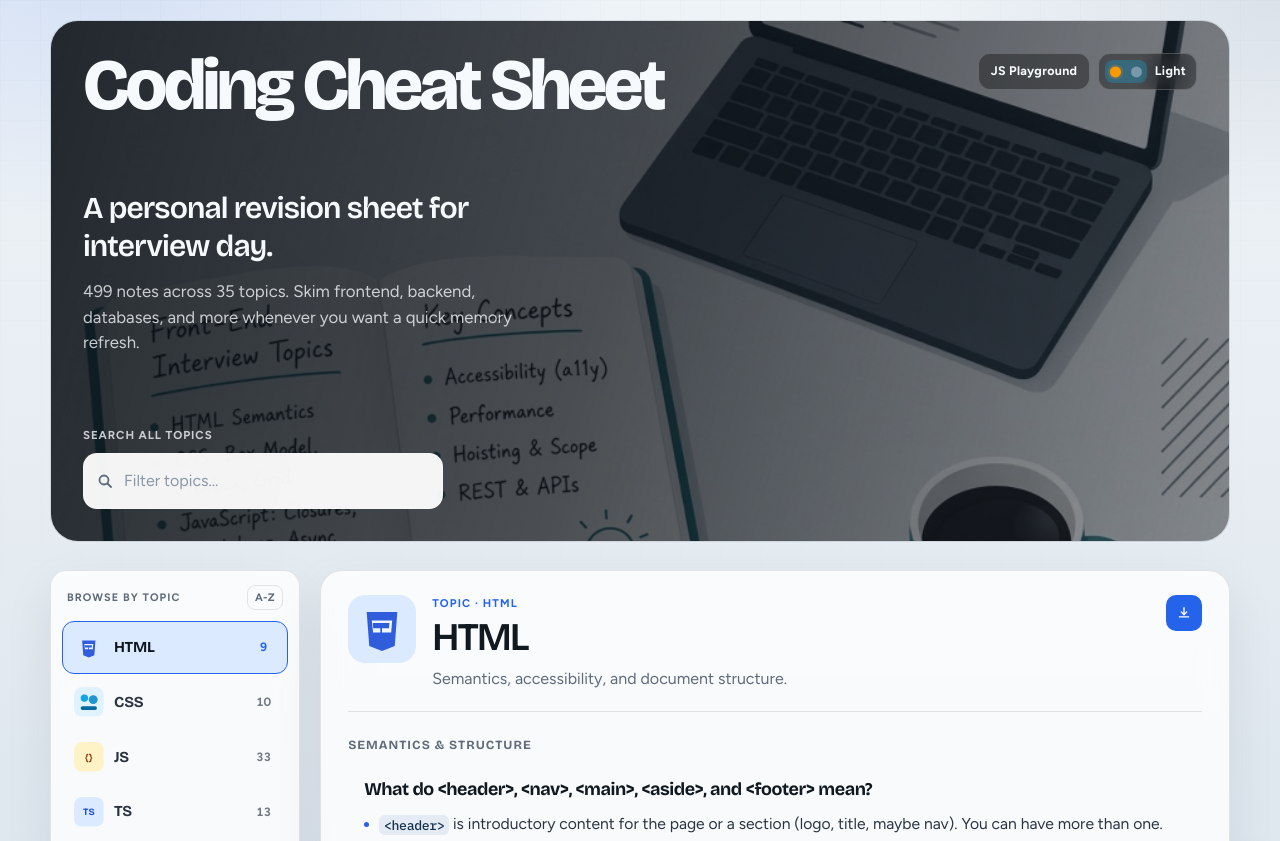
it: App › toggles between light and dark theme
Click the button with aria-label "switch to dark theme": (1148, 72) [1098,53,1197,90]
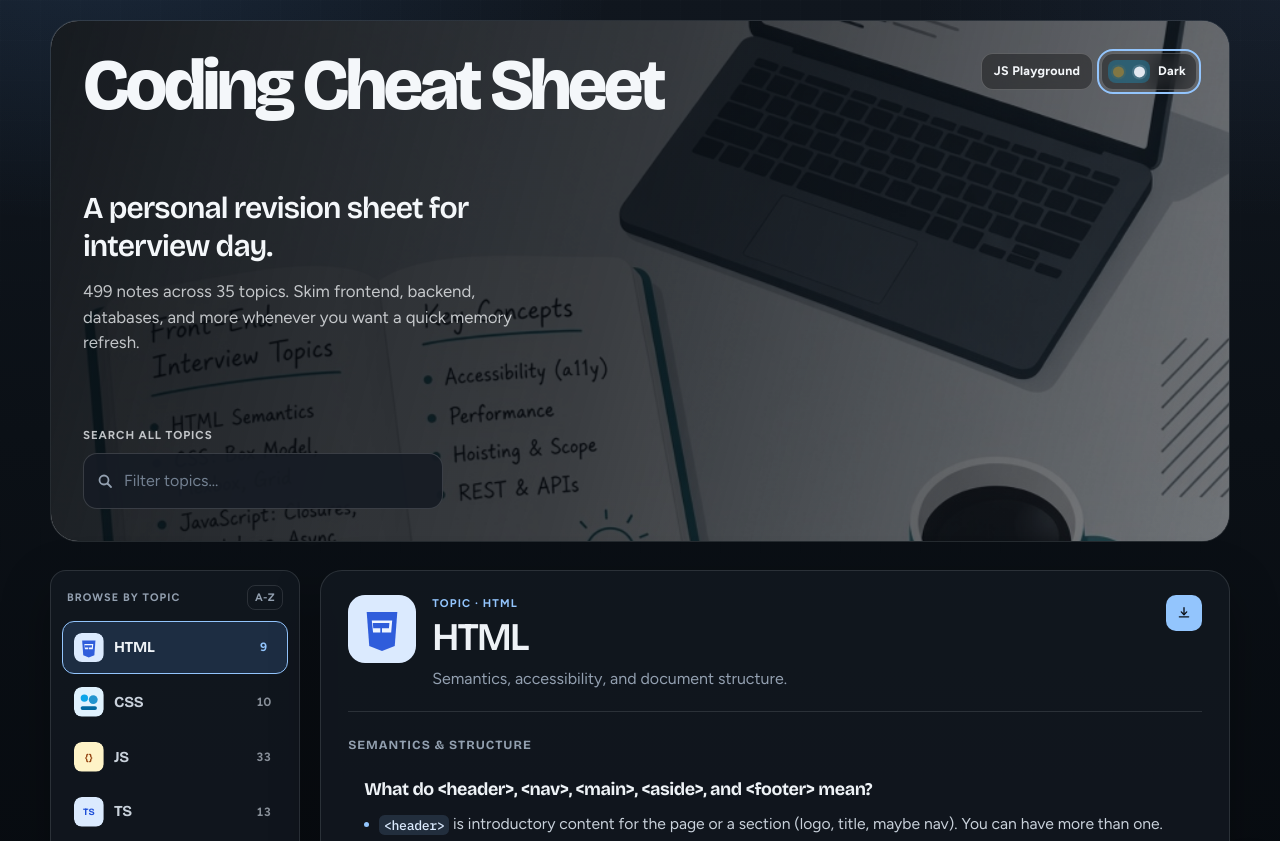
expect the button with aria-label "switch to light theme" is shown: met, box [1101,53,1197,90]
